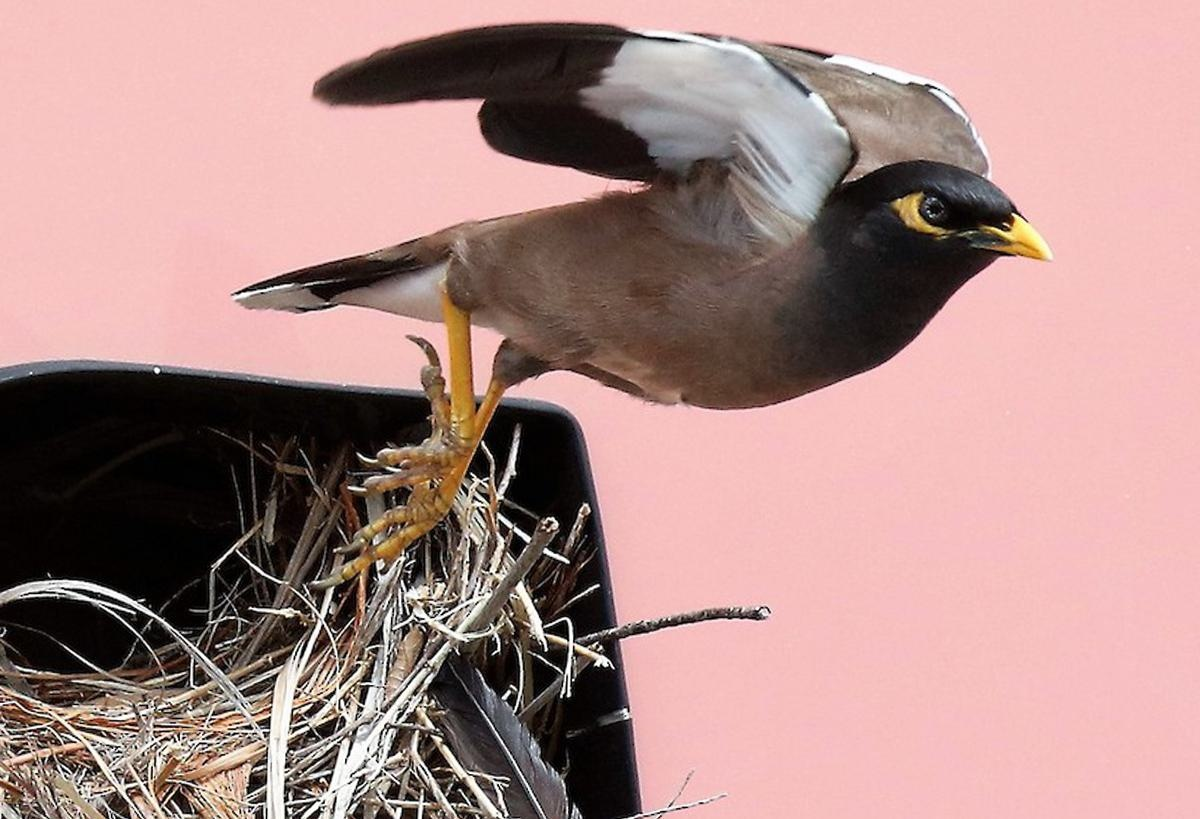myna: (247, 52, 1074, 467)
